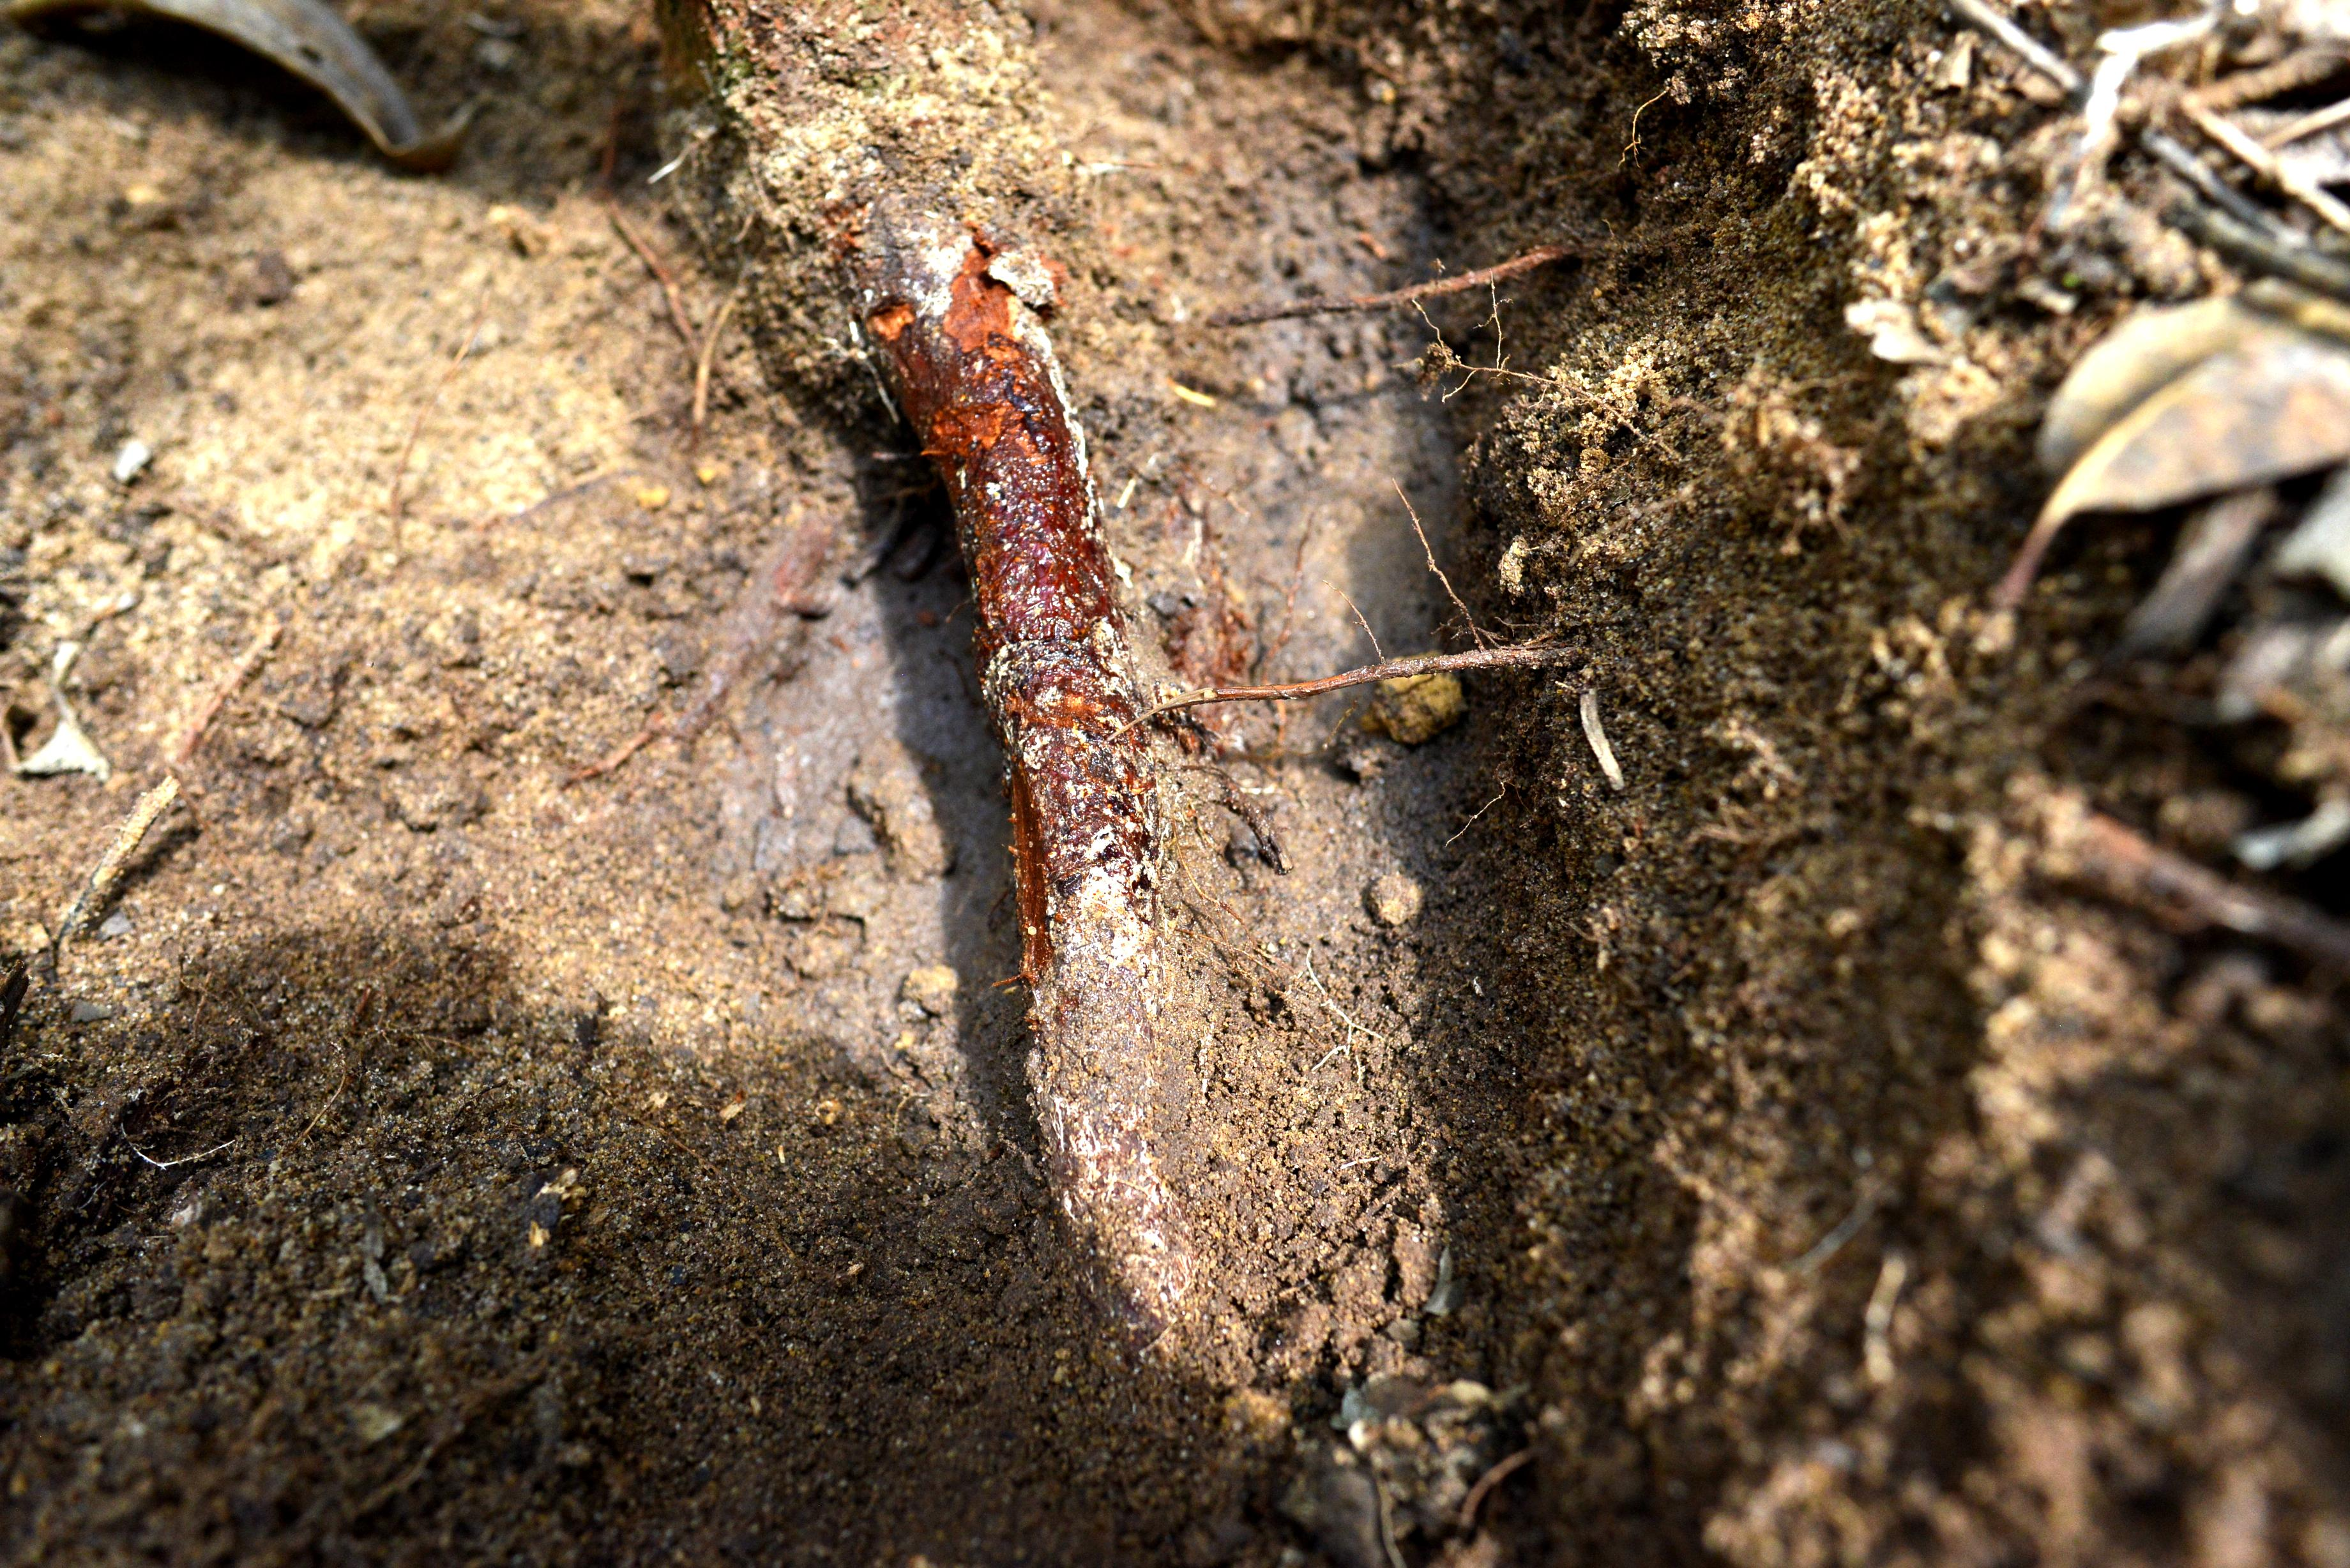Ganoderma - Mycelium: (997, 1067, 1207, 1340), (1053, 822, 1192, 994)
Red Root Rot - Secretion: (866, 269, 1136, 815), (990, 789, 1053, 1006)
